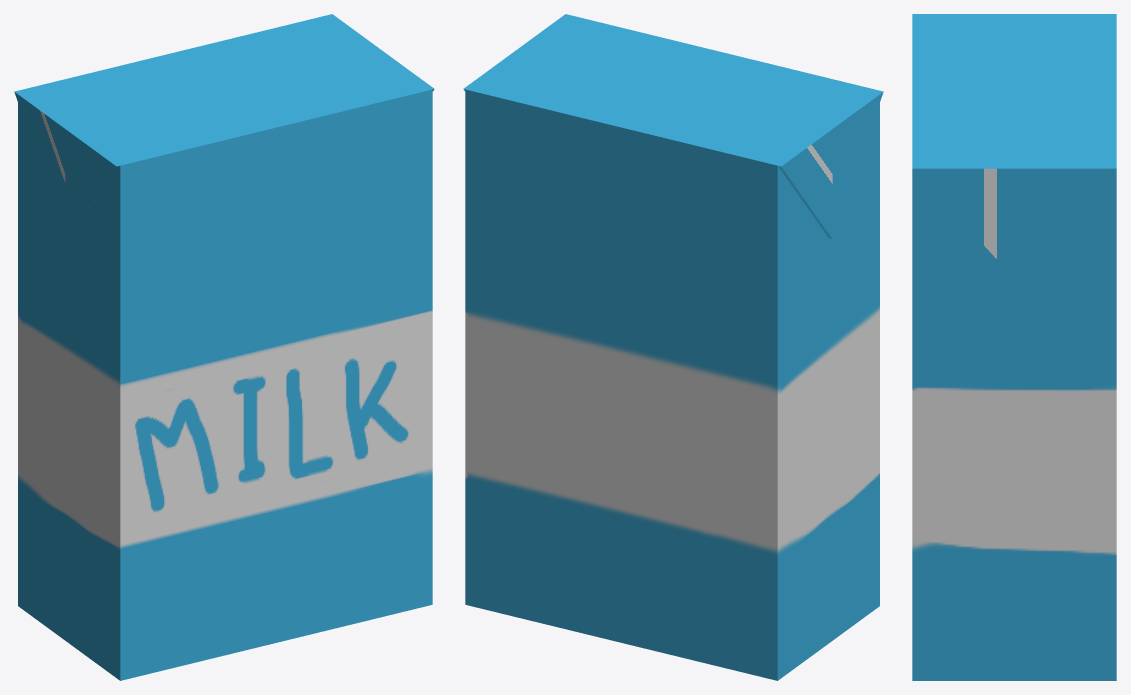
Rendered from Collectible Item.fbx_Milk.fbx.
3 renders of one model, left to right at view 1: azimuth 30°, elevation 25°; view 2: azimuth 150°, elevation 25°; view 3: azimuth 270°, elevation 25°, orthographic.
Visible parts, largest first — view 1: Milk; view 2: Milk; view 3: Milk.
Part boxes in pixels (bbox=[...]): Milk: bbox=[14, 14, 434, 680]; Milk: bbox=[463, 14, 883, 680]; Milk: bbox=[912, 14, 1116, 680].
Size of the model in its own units: 1.18 by 1.83 by 0.658.
Materials: 1 (1 with a texture image).
